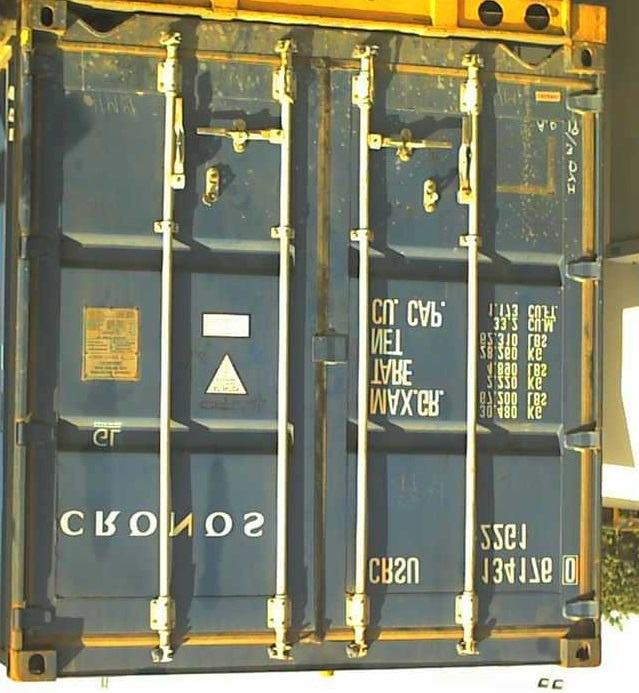container_door: (7, 28, 603, 686)
